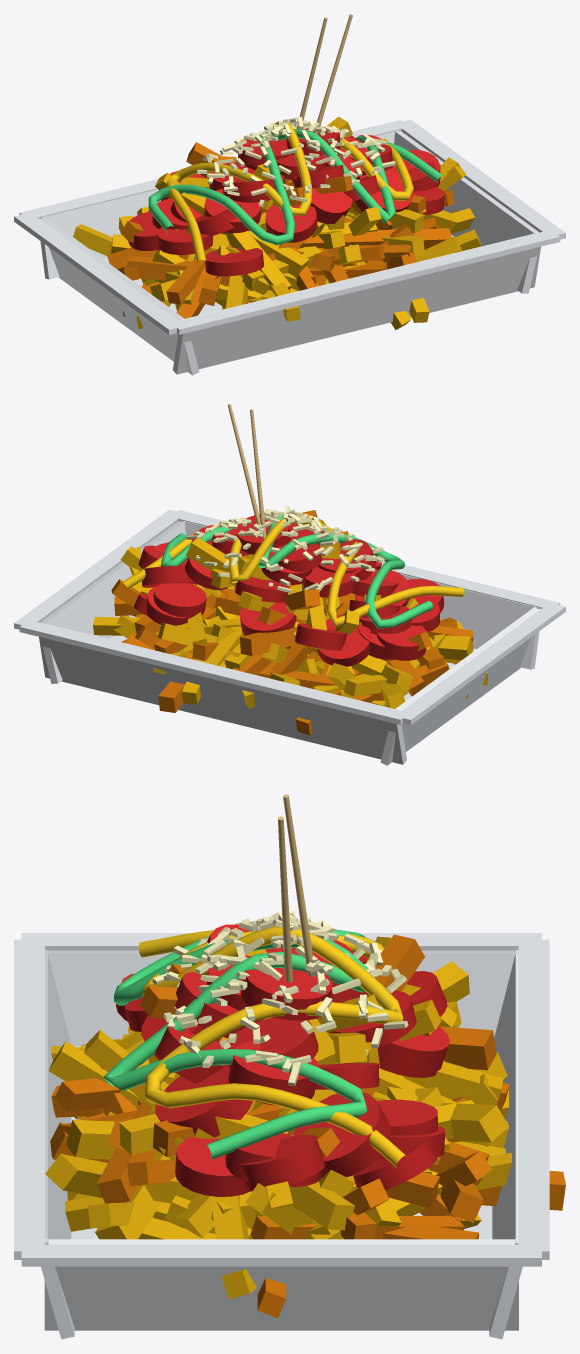
Rendered from salchipapa.glb.
The picture shows the model from 3 angles, top to bottom: view 1: azimuth 30°, elevation 25°; view 2: azimuth 150°, elevation 25°; view 3: azimuth 270°, elevation 25°; orthographic projection. The views are drawn at different scales.
Parts seen in each view (by area): view 1: Salchipapa_Procedural, Papas_Fritas, Salchichas_Cortadas, Queso_Rallado; view 2: Salchipapa_Procedural, Papas_Fritas, Salchichas_Cortadas, Queso_Rallado; view 3: Salchipapa_Procedural, Papas_Fritas, Salchichas_Cortadas, Queso_Rallado.
Part boxes in pixels (<box>): Salchipapa_Procedural: <box>14,14,565,375</box>; Papas_Fritas: <box>73,116,481,329</box>; Salchichas_Cortadas: <box>128,127,444,276</box>; Queso_Rallado: <box>197,116,395,206</box>; Salchipapa_Procedural: <box>14,404,565,765</box>; Papas_Fritas: <box>93,510,487,735</box>; Salchichas_Cortadas: <box>133,514,444,666</box>; Queso_Rallado: <box>186,505,384,592</box>; Salchipapa_Procedural: <box>14,794,549,1339</box>; Papas_Fritas: <box>45,929,565,1317</box>; Salchichas_Cortadas: <box>116,924,449,1196</box>; Queso_Rallado: <box>152,911,408,1086</box>.
Bounding box in the file's own units: 3.98 × 2.66 × 2.84.
